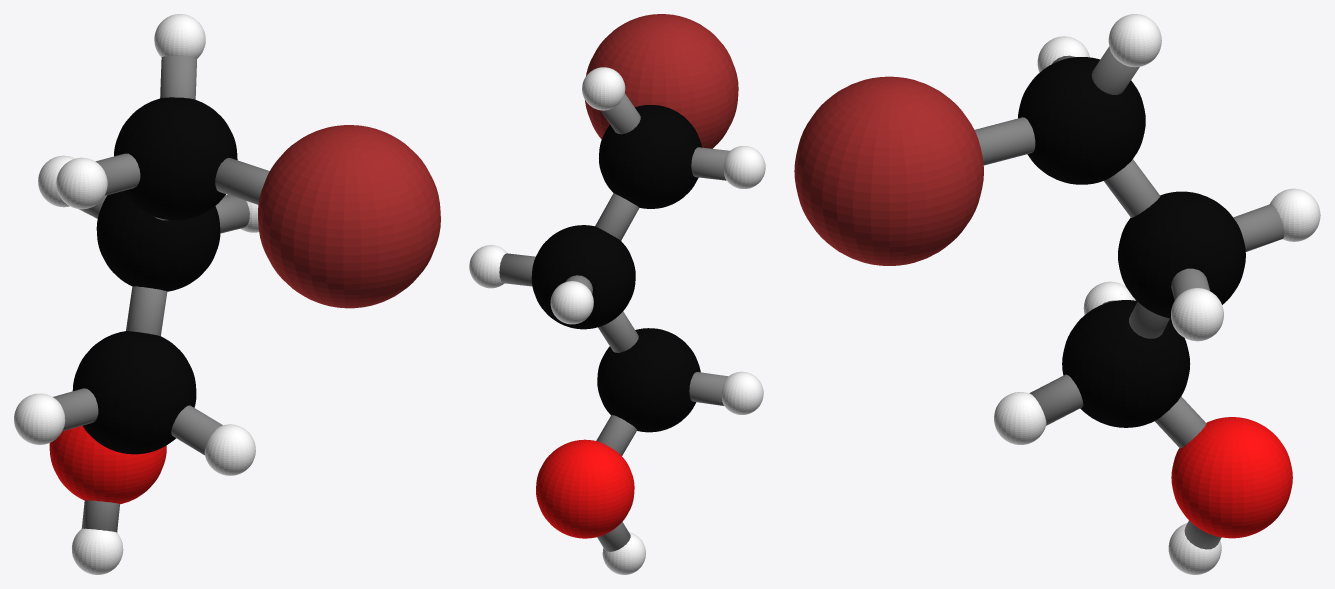
File: BROMO PROPANOL.obj
3 views of the same model, side by side, from view 1: azimuth 30°, elevation 25°; view 2: azimuth 150°, elevation 25°; view 3: azimuth 270°, elevation 25° (orthographic). The views are drawn at different scales.
Parts seen in each view (by area): view 1: Carbon_ball_Sphere.001, Bromine_ball_Sphere.002, Hydrogen_ball_Sphere, Oxygen_ball_Sphere.003, Stick_Cylinder.009_Cylinder.009, Stick_Cylinder.004_Cylinder.004, Stick_Cylinder.010_Cylinder.010, Stick_Cylinder.006_Cylinder.006, Stick_Cylinder.002_Cylinder.002, Stick_Cylinder.008_Cylinder.008, Stick_Cylinder.005_Cylinder.005, Stick_Cylinder.001_Cylinder.001; view 2: Carbon_ball_Sphere.001, Bromine_ball_Sphere.002, Hydrogen_ball_Sphere, Oxygen_ball_Sphere.003, Stick_Cylinder.003_Cylinder.003, Stick_Cylinder.008_Cylinder.008, Stick_Cylinder.002_Cylinder.002, Stick_Cylinder.001_Cylinder.001, Stick_Cylinder.004_Cylinder.004, Stick_Cylinder.007_Cylinder.007, Stick_Cylinder.010_Cylinder.010, Stick_Cylinder.005_Cylinder.005; view 3: Carbon_ball_Sphere.001, Bromine_ball_Sphere.002, Hydrogen_ball_Sphere, Oxygen_ball_Sphere.003, Stick_Cylinder.009_Cylinder.009, Stick_Cylinder.003_Cylinder.003, Stick_Cylinder_Cylinder, Stick_Cylinder.006_Cylinder.006, Stick_Cylinder.007_Cylinder.007, Stick_Cylinder.010_Cylinder.010, Stick_Cylinder.004_Cylinder.004, Stick_Cylinder.001_Cylinder.001.
Part boxes in pixels (<box>): Carbon_ball_Sphere.001: <box>72,97,237,454</box>; Bromine_ball_Sphere.002: <box>258,125,440,308</box>; Hydrogen_ball_Sphere: <box>14,14,258,574</box>; Oxygen_ball_Sphere.003: <box>49,425,166,504</box>; Stick_Cylinder.009_Cylinder.009: <box>215,158,269,204</box>; Stick_Cylinder.004_Cylinder.004: <box>126,286,167,335</box>; Stick_Cylinder.010_Cylinder.010: <box>160,56,197,99</box>; Stick_Cylinder.006_Cylinder.006: <box>171,405,222,455</box>; Stick_Cylinder.002_Cylinder.002: <box>53,388,98,431</box>; Stick_Cylinder.008_Cylinder.008: <box>95,153,140,195</box>; Stick_Cylinder.005_Cylinder.005: <box>81,500,119,532</box>; Stick_Cylinder.001_Cylinder.001: <box>215,195,249,233</box>; Carbon_ball_Sphere.001: <box>531,105,701,432</box>; Bromine_ball_Sphere.002: <box>585,14,738,148</box>; Hydrogen_ball_Sphere: <box>469,67,765,574</box>; Oxygen_ball_Sphere.003: <box>536,439,634,538</box>; Stick_Cylinder.003_Cylinder.003: <box>595,193,639,240</box>; Stick_Cylinder.008_Cylinder.008: <box>691,147,729,180</box>; Stick_Cylinder.002_Cylinder.002: <box>689,372,727,405</box>; Stick_Cylinder.001_Cylinder.001: <box>499,253,535,286</box>; Stick_Cylinder.004_Cylinder.004: <box>598,311,638,352</box>; Stick_Cylinder.007_Cylinder.007: <box>596,415,637,455</box>; Stick_Cylinder.010_Cylinder.010: <box>600,93,640,134</box>; Stick_Cylinder.005_Cylinder.005: <box>597,522,630,551</box>; Carbon_ball_Sphere.001: <box>1018,57,1245,427</box>; Bromine_ball_Sphere.002: <box>794,76,983,265</box>; Hydrogen_ball_Sphere: <box>994,14,1320,574</box>; Oxygen_ball_Sphere.003: <box>1171,417,1292,538</box>; Stick_Cylinder.009_Cylinder.009: <box>974,117,1035,165</box>; Stick_Cylinder.003_Cylinder.003: <box>1104,159,1160,217</box>; Stick_Cylinder_Cylinder: <box>1233,204,1284,251</box>; Stick_Cylinder.006_Cylinder.006: <box>1029,374,1083,425</box>; Stick_Cylinder.007_Cylinder.007: <box>1154,396,1206,448</box>; Stick_Cylinder.010_Cylinder.010: <box>1091,46,1139,94</box>; Stick_Cylinder.004_Cylinder.004: <box>1129,302,1169,338</box>; Stick_Cylinder.001_Cylinder.001: <box>1171,268,1209,300</box>.
Size of the model in its own units: 3.93 by 6.96 by 5.69.
